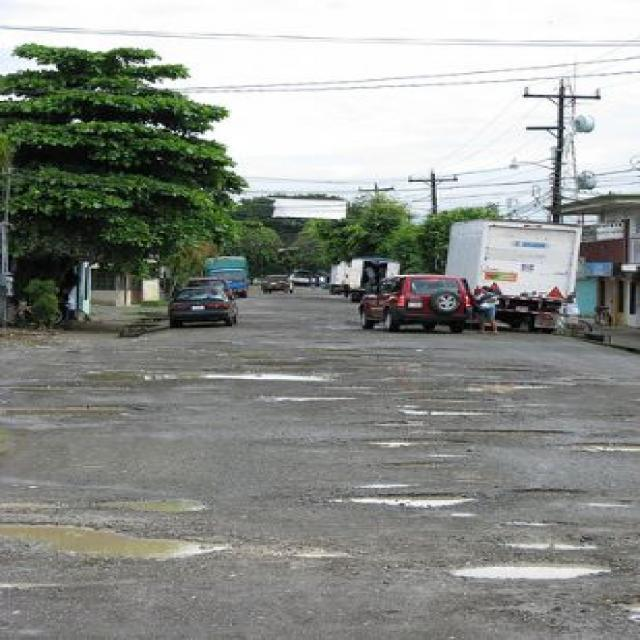Pothole: (1, 521, 233, 565), (440, 553, 616, 584)
